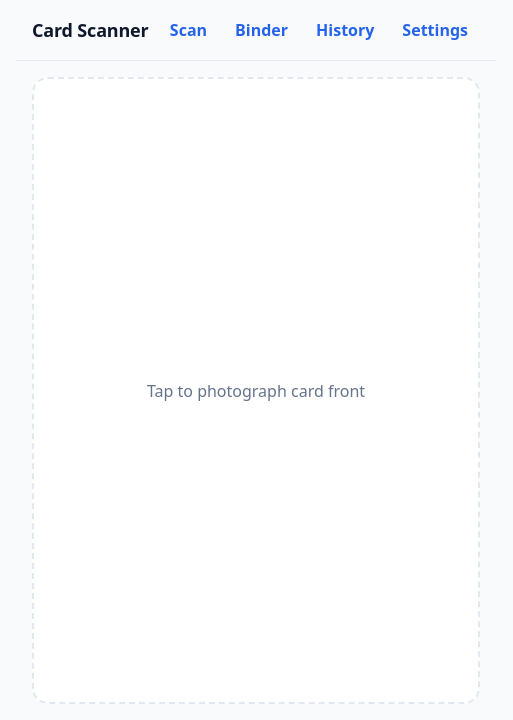
it: binder tab shows the community feed screen
Click the button "Binder".
click(262, 30)  # box x1=223 y1=8 x2=300 y2=52
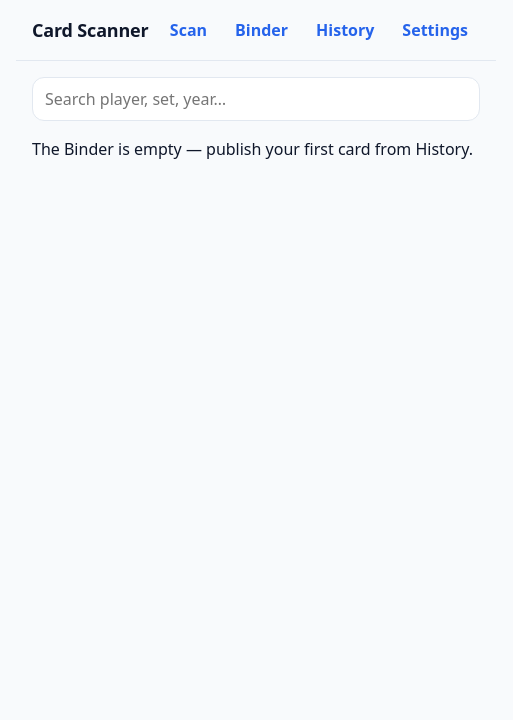
Expected: the search field named "search the binder" is shown, x1=32 y1=77 x2=480 y2=121
